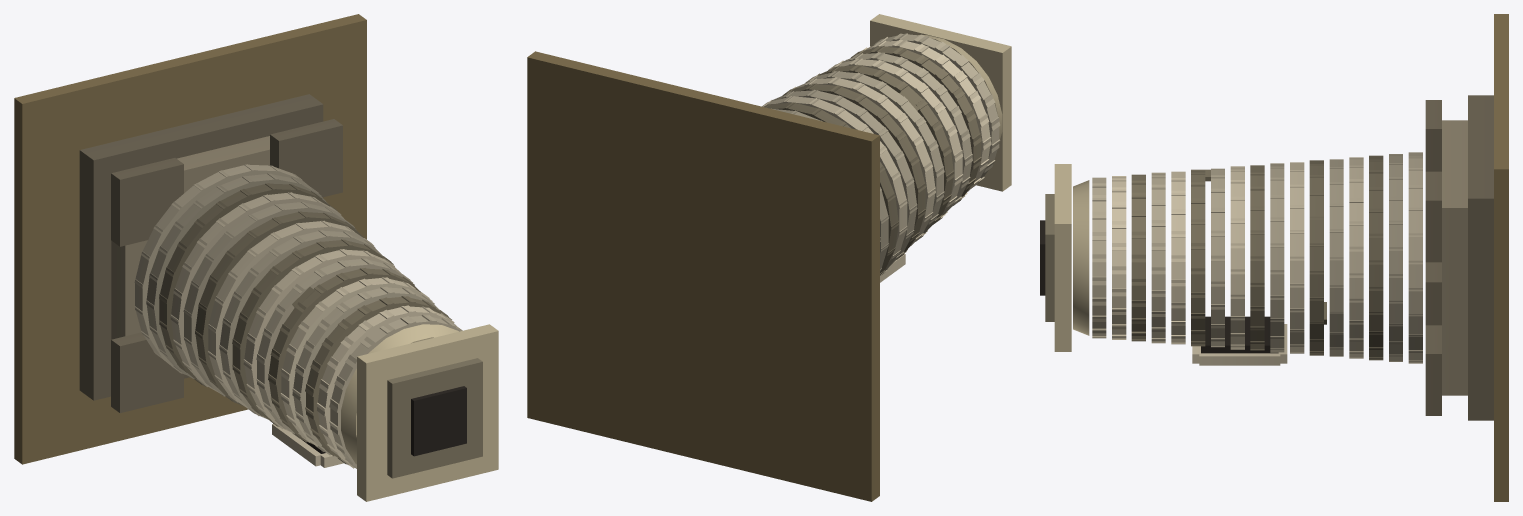
File: cheomseongdae.glb
3 renders of one model, left to right at view 1: azimuth 30°, elevation 25°; view 2: azimuth 150°, elevation 25°; view 3: azimuth 270°, elevation 25°, orthographic. The views are drawn at different scales.
Parts seen in each view (by area): view 1: part-ground, part-baseShade, part-stoneDark, part-stoneLight, part-stone, part-cap, part-base, part-aperture; view 2: part-ground, part-stone, part-stoneLight, part-stoneDark, part-cap; view 3: part-stoneLight, part-stone, part-stoneDark, part-baseShade, part-ground, part-base, part-cap, part-aperture.
Boxes of the visible parts, box(x1,y1,x2,y2) form: part-ground: box(14, 14, 366, 464); part-baseShade: box(79, 94, 342, 413); part-stoneDark: box(159, 183, 482, 478); part-stoneLight: box(134, 164, 458, 468); part-stone: box(146, 173, 462, 468); part-cap: box(341, 324, 498, 501); part-base: box(111, 136, 269, 339); part-aperture: box(301, 386, 466, 456); part-ground: box(527, 51, 879, 501); part-stone: box(770, 33, 1000, 271); part-stoneLight: box(762, 39, 991, 282); part-stoneDark: box(763, 45, 981, 274); part-cap: box(870, 14, 1011, 191); part-stoneLight: box(1112, 152, 1422, 365); part-stone: box(1092, 154, 1402, 361); part-stoneDark: box(1045, 155, 1383, 360); part-baseShade: box(1425, 95, 1493, 420); part-ground: box(1494, 14, 1508, 501); part-base: box(1442, 120, 1467, 395); part-cap: box(1054, 164, 1089, 351); part-aperture: box(1040, 220, 1278, 353).
Size of the model in its own units: 0.78 by 0.78 by 0.996.
